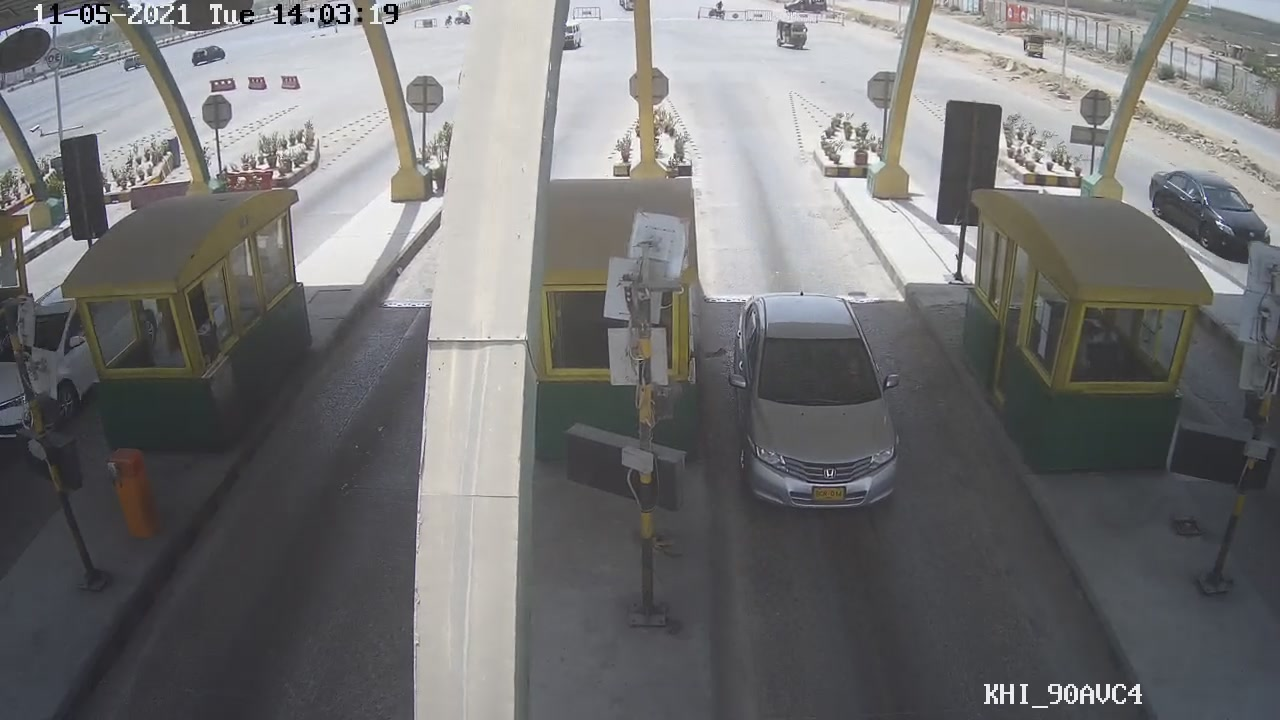F1: (712, 292, 908, 519)
